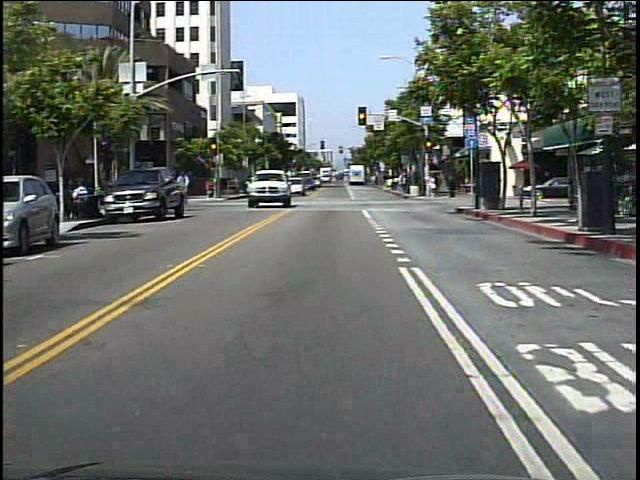person: (173, 169, 195, 203), (447, 172, 461, 204), (427, 176, 440, 200), (206, 176, 216, 199)
